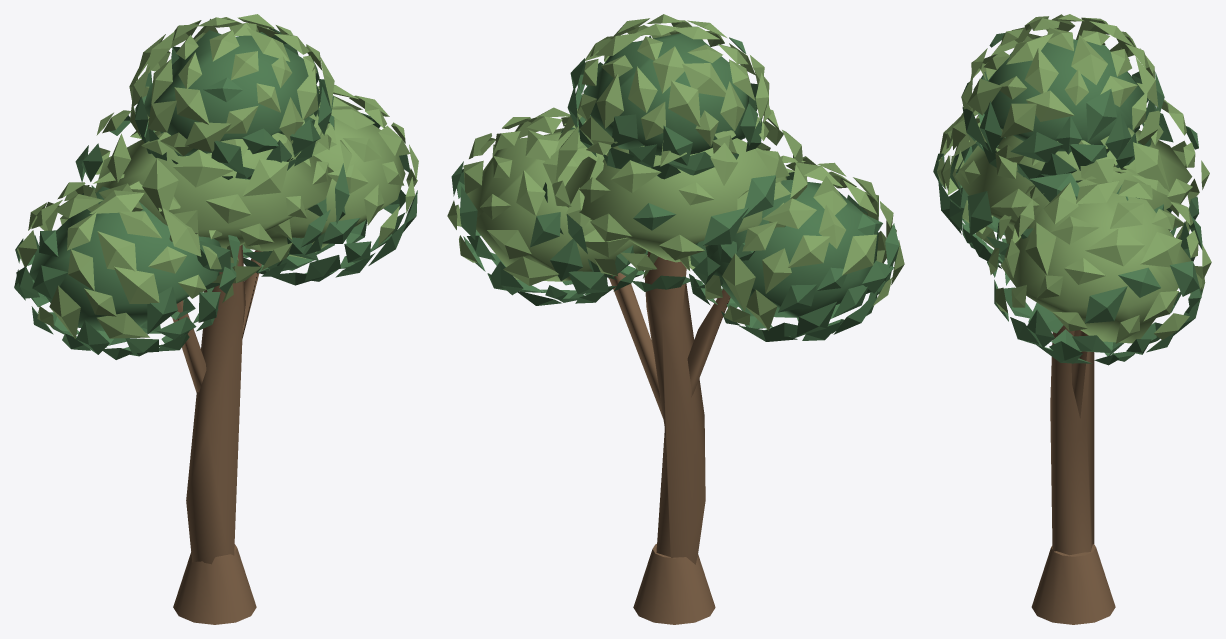
The model's file is tree.broad-far.glb.
3 renders of one model, left to right at view 1: azimuth 30°, elevation 25°; view 2: azimuth 150°, elevation 25°; view 3: azimuth 270°, elevation 25°, orthographic. The views are drawn at different scales.
Visible parts, largest first — view 1: Root flare; view 2: Root flare; view 3: Root flare.
Boxes of the visible parts, x1=… form: Root flare: x1=14, y1=14, x2=418, y2=624; Root flare: x1=447, y1=14, x2=904, y2=624; Root flare: x1=933, y1=14, x2=1211, y2=624.
Size of the model in its own units: 1.59 by 2.15 by 0.9267.
